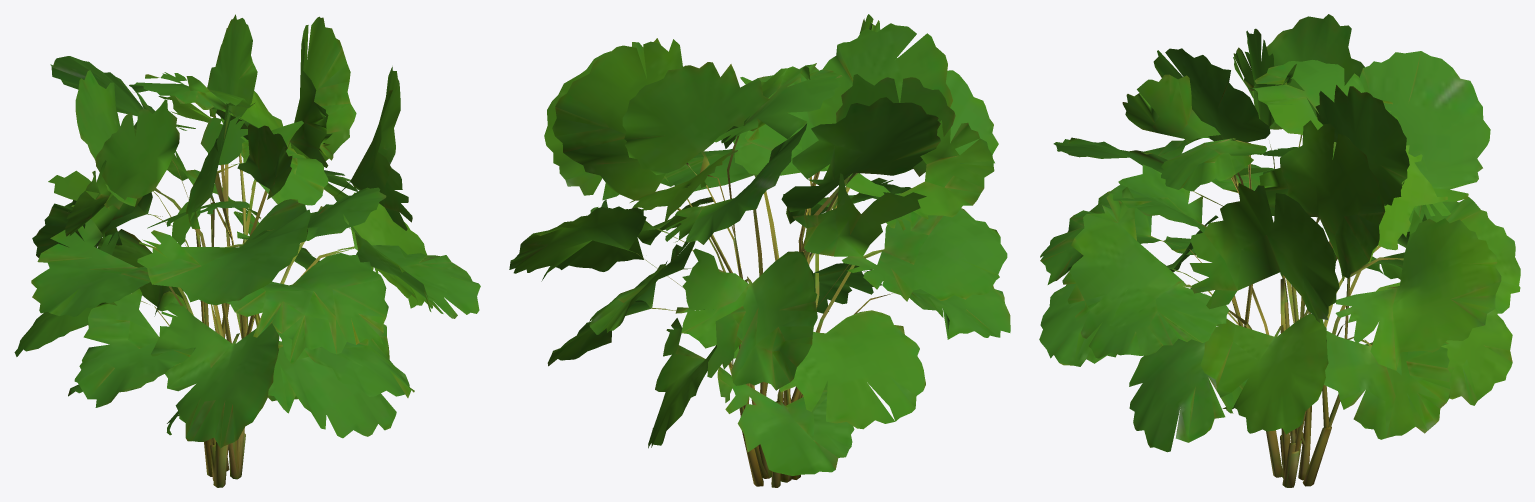
File: fanpalmshrub.lite.glb
3 renders of one model, left to right at view 1: azimuth 30°, elevation 25°; view 2: azimuth 150°, elevation 25°; view 3: azimuth 270°, elevation 25°, orthographic. The views are drawn at different scales.
Visible parts, largest first — view 1: model; view 2: model; view 3: model.
Boxes of the visible parts, x1,y1,x2,y2 form: model: (14,14,480,487); model: (509,14,1010,487); model: (1039,14,1520,487).
Bounding box in the file's own units: 0.9556 × 0.9419 × 0.9995.
2 materials, 2 textured.
